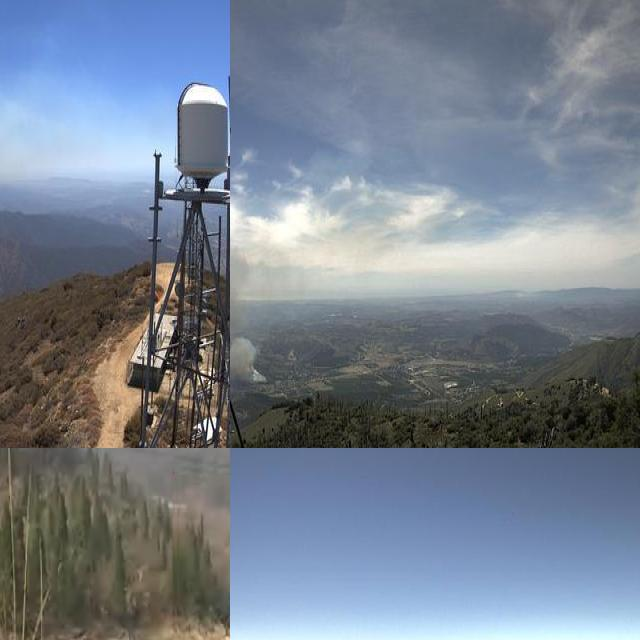smoke: (230, 222, 272, 390)
